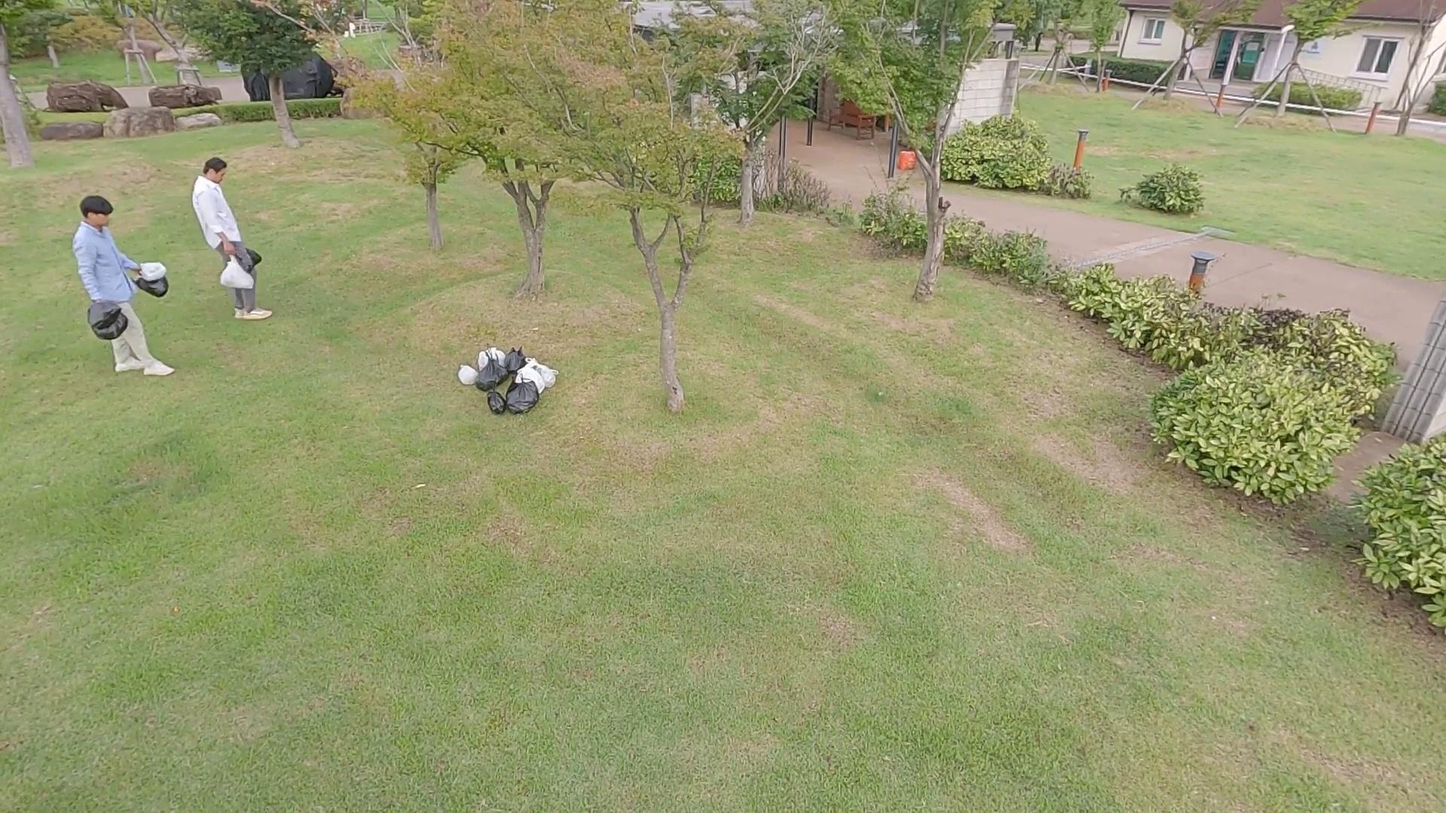person: (68, 191, 180, 382), (191, 158, 281, 322)
trash: (509, 360, 550, 397), (86, 304, 128, 340), (505, 375, 538, 416), (218, 253, 254, 289), (476, 353, 509, 391), (132, 270, 170, 299), (86, 300, 122, 329), (524, 357, 558, 387), (476, 346, 505, 380), (500, 341, 528, 374), (455, 362, 481, 391), (135, 258, 167, 281), (237, 243, 263, 269), (486, 394, 506, 415)
